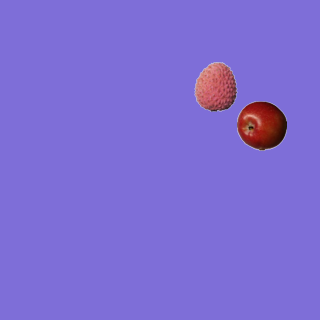Apple Braeburn: (236, 100, 286, 150)
Lychee: (190, 61, 240, 111)
